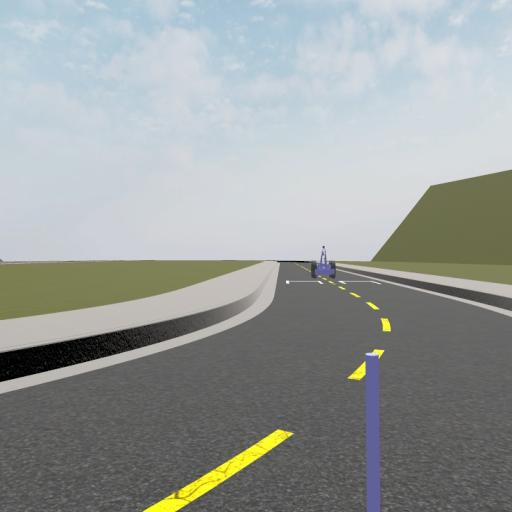ERP-42: (311, 245, 336, 278)
